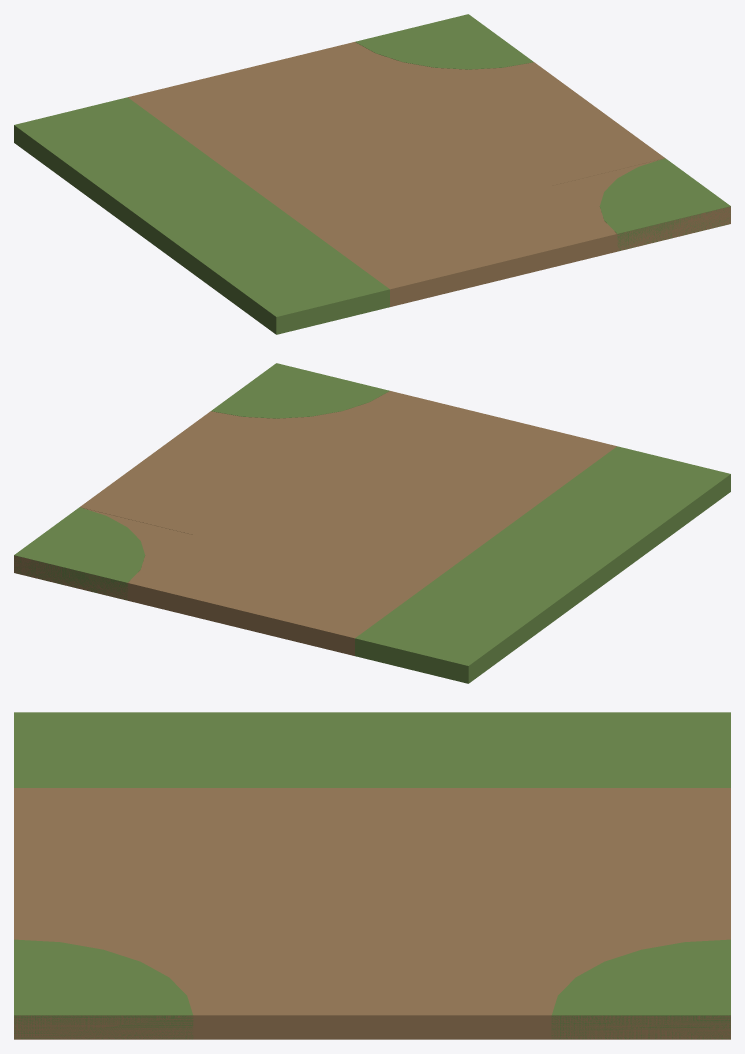
The model's file is Road_1Lane_Dirt_NoSidewalk_Intersection_T.glb.
3 renders of one model, top to bottom at view 1: azimuth 30°, elevation 25°; view 2: azimuth 150°, elevation 25°; view 3: azimuth 270°, elevation 25°, orthographic. The views are drawn at different scales.
Visible parts, largest first — view 1: Road_1Lane_Dirt_NoSidewalk_Intersection_T_Dirt, Road_1Lane_Dirt_NoSidewalk_Intersection_T_Grass-edge; view 2: Road_1Lane_Dirt_NoSidewalk_Intersection_T_Dirt, Road_1Lane_Dirt_NoSidewalk_Intersection_T_Grass-edge; view 3: Road_1Lane_Dirt_NoSidewalk_Intersection_T_Dirt, Road_1Lane_Dirt_NoSidewalk_Intersection_T_Grass-edge.
Boxes of the visible parts, box(x1,y1,x2,y2) form: Road_1Lane_Dirt_NoSidewalk_Intersection_T_Dirt: box(128, 42, 730, 306); Road_1Lane_Dirt_NoSidewalk_Intersection_T_Grass-edge: box(14, 14, 730, 334); Road_1Lane_Dirt_NoSidewalk_Intersection_T_Dirt: box(14, 391, 616, 655); Road_1Lane_Dirt_NoSidewalk_Intersection_T_Grass-edge: box(14, 363, 730, 683); Road_1Lane_Dirt_NoSidewalk_Intersection_T_Dirt: box(14, 788, 730, 1039); Road_1Lane_Dirt_NoSidewalk_Intersection_T_Grass-edge: box(14, 712, 730, 1039).
Bounding box in the file's own units: 8 × 0.3 × 8.
